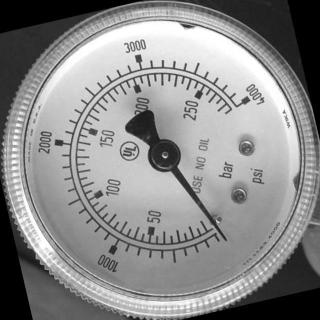gauge: (0, 0, 320, 320), (214, 82, 266, 126), (203, 216, 247, 258), (143, 134, 185, 175), (214, 226, 233, 248)
